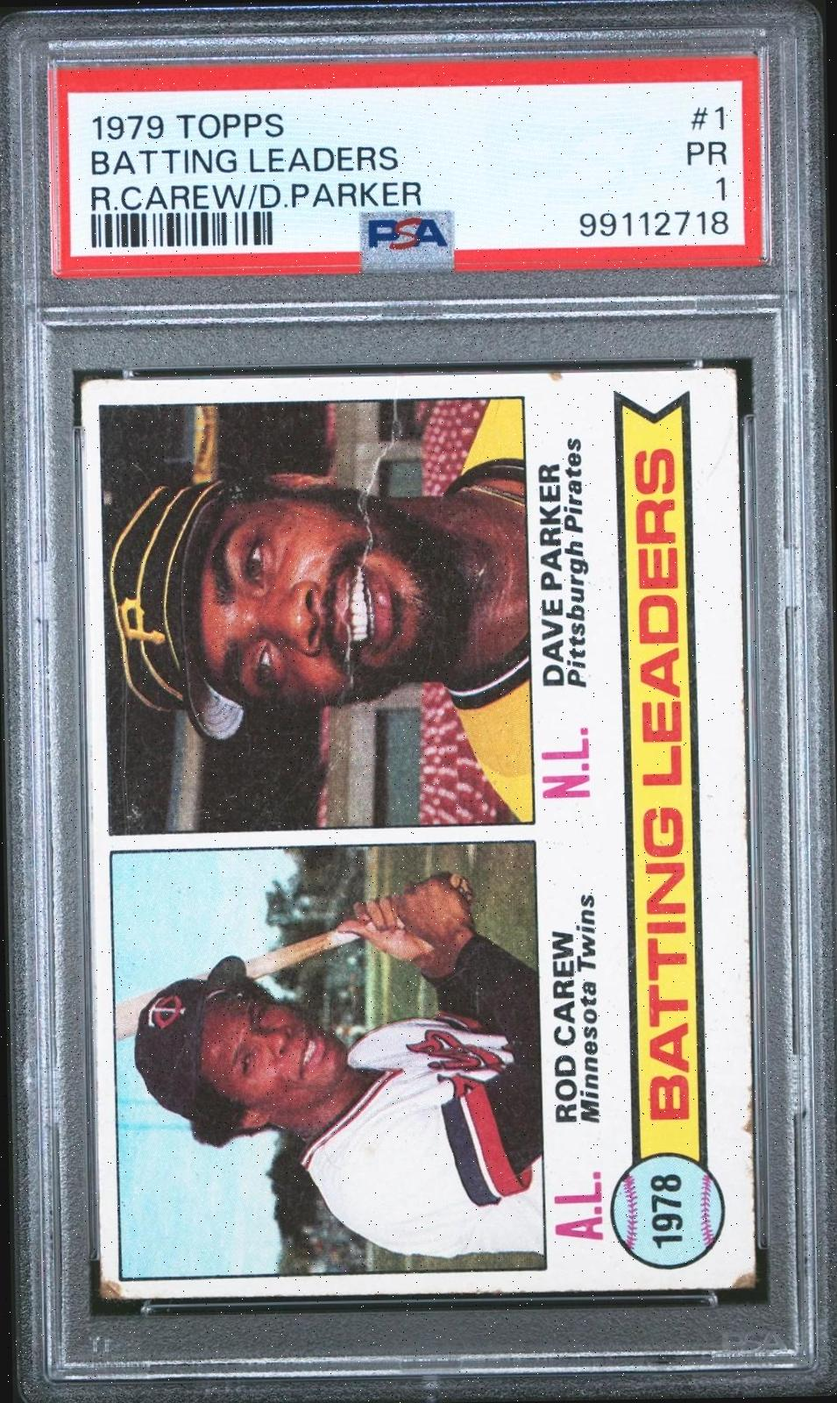card-2UtV: (78, 366, 756, 1301)
